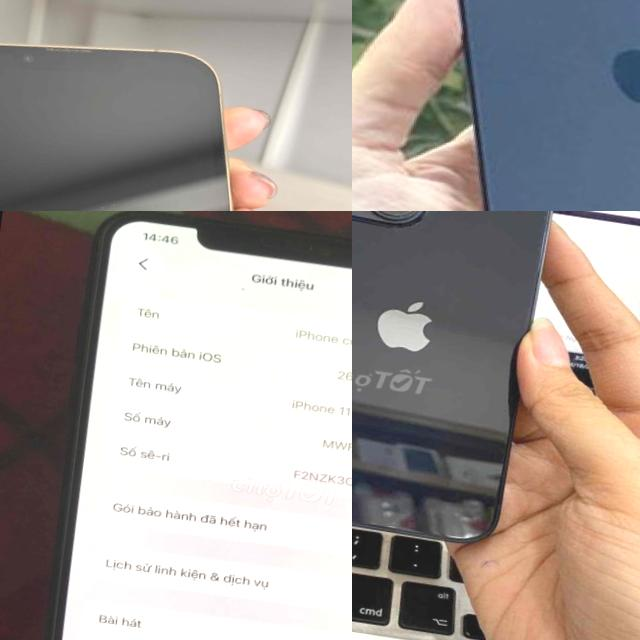gen_11: (12, 211, 352, 640)
gen_12_13: (352, 211, 564, 546), (0, 17, 352, 211), (370, 0, 640, 211)
